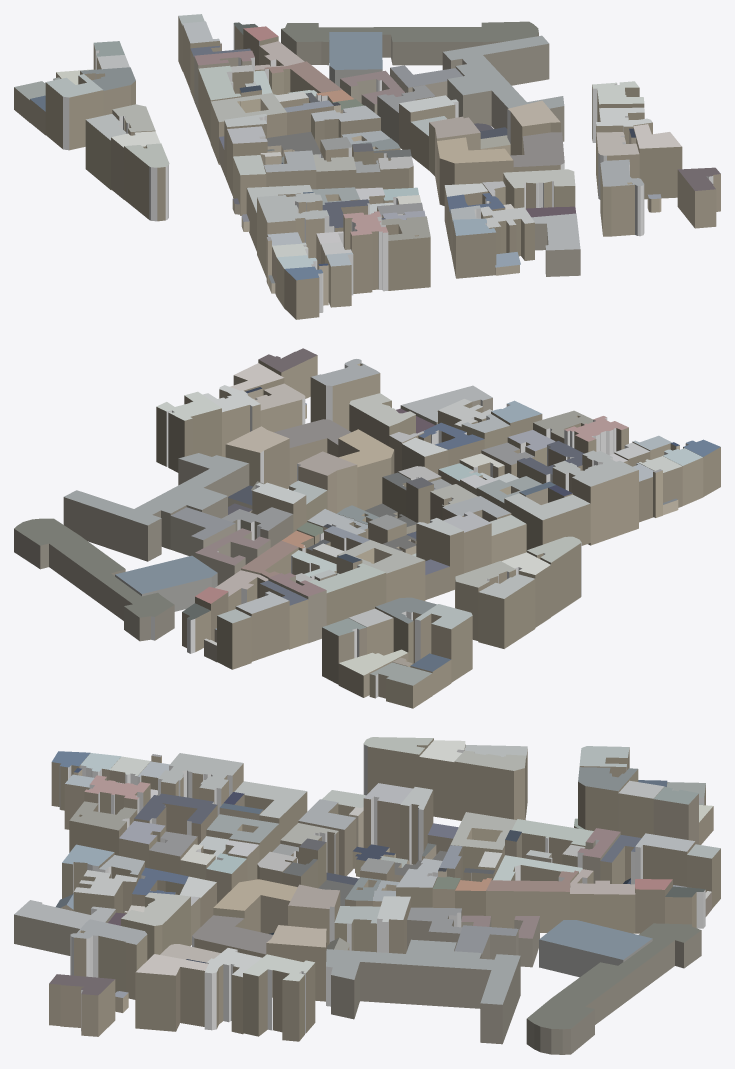
3 views of the same model, one above another, from view 1: azimuth 30°, elevation 25°; view 2: azimuth 150°, elevation 25°; view 3: azimuth 270°, elevation 25° (orthographic). The views are drawn at different scales.
Parts seen in each view (by area): view 1: tuile; view 2: tuile; view 3: tuile.
Part boxes in pixels (x1,y1,x2,y2): tuile: (14,14,720,319); tuile: (14,348,720,708); tuile: (14,737,720,1054).
Size of the model in its own units: 233 by 29.98 by 274.
